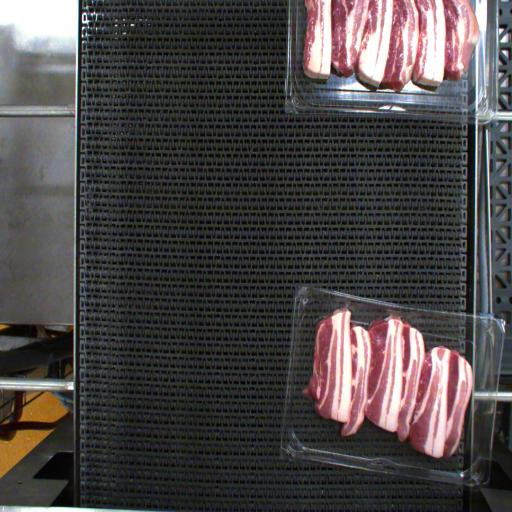packaging-error: (336, 298, 356, 312)
